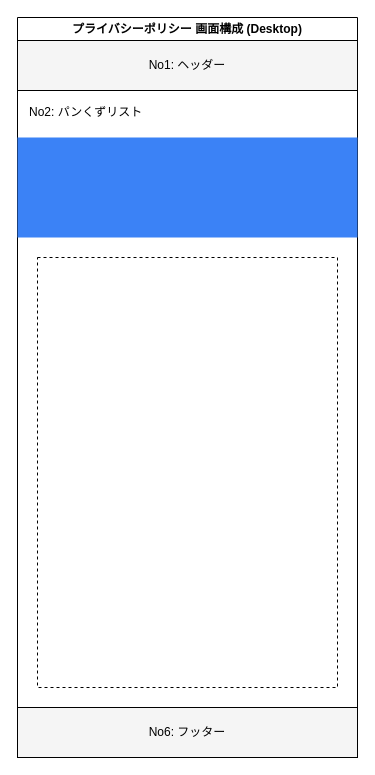
Image size: 375x775. Some labels were removed from this diagram. The centre of each missing label's shape, as x and y in pixels:
"No3: ヒーローエリア (Title)" goes at pixel 187 187.
"No4/No5: メインコンテンツ" goes at pixel 187 472.
